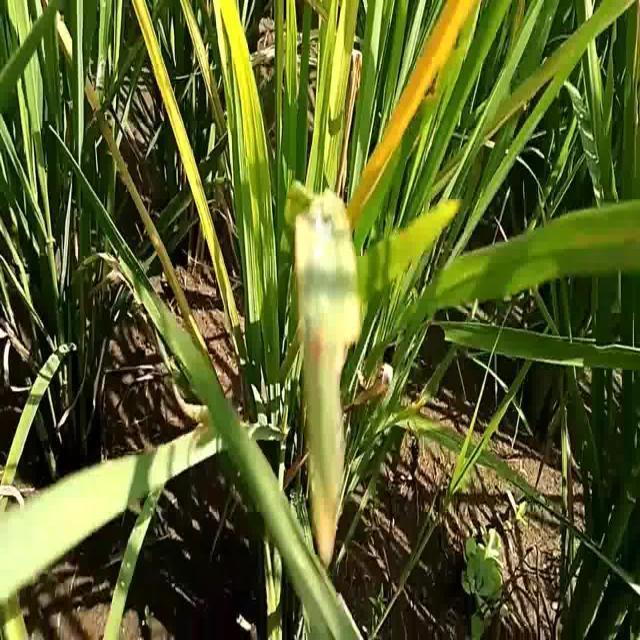Rice Tungro: (356, 4, 478, 211), (130, 2, 222, 248), (211, 7, 274, 181), (314, 3, 358, 173)
